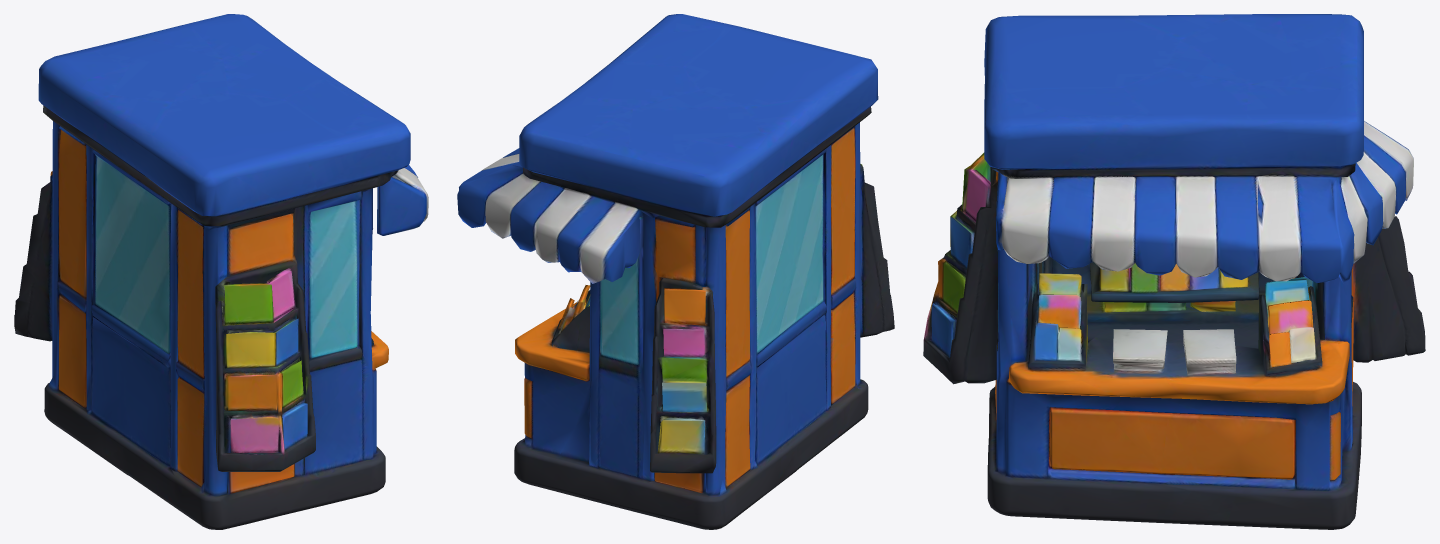
File: newsstand.glb
The picture shows the model from 3 angles, left to right: view 1: azimuth 30°, elevation 25°; view 2: azimuth 150°, elevation 25°; view 3: azimuth 270°, elevation 25°; orthographic projection. The views are drawn at different scales.
Visible parts, largest first — view 1: tripo_node_23079c36-b4ab-4d59-8f68-1f7790924e4d; view 2: tripo_node_23079c36-b4ab-4d59-8f68-1f7790924e4d; view 3: tripo_node_23079c36-b4ab-4d59-8f68-1f7790924e4d.
Part boxes in pixels (box(x1,y1,x2,y2)): tripo_node_23079c36-b4ab-4d59-8f68-1f7790924e4d: box(14, 14, 428, 529); tripo_node_23079c36-b4ab-4d59-8f68-1f7790924e4d: box(457, 14, 894, 529); tripo_node_23079c36-b4ab-4d59-8f68-1f7790924e4d: box(923, 14, 1425, 529).
Bounding box in the file's own units: 0.7124 × 0.8744 × 0.9808.
Materials: 1 (1 with a texture image).
